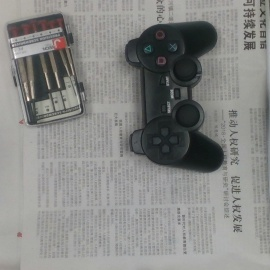remote: (124, 22, 222, 173)
